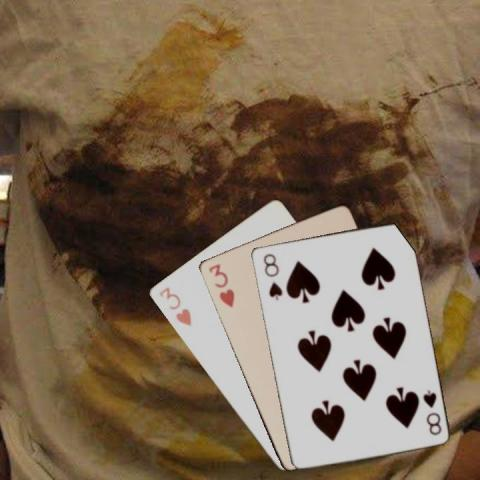3h: (155, 284, 193, 327), (205, 261, 236, 309)
8s: (419, 386, 443, 436), (260, 250, 283, 302)
